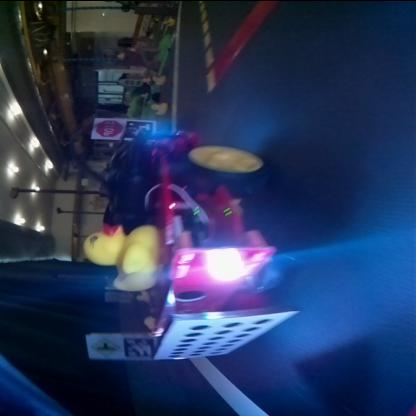Duckie: (86, 224, 162, 290), (152, 101, 168, 113), (152, 74, 164, 84)
Duckiebot: (111, 131, 299, 357)
Intersection sign: (90, 336, 119, 356)
QR code: (123, 336, 153, 356), (124, 120, 154, 136)
